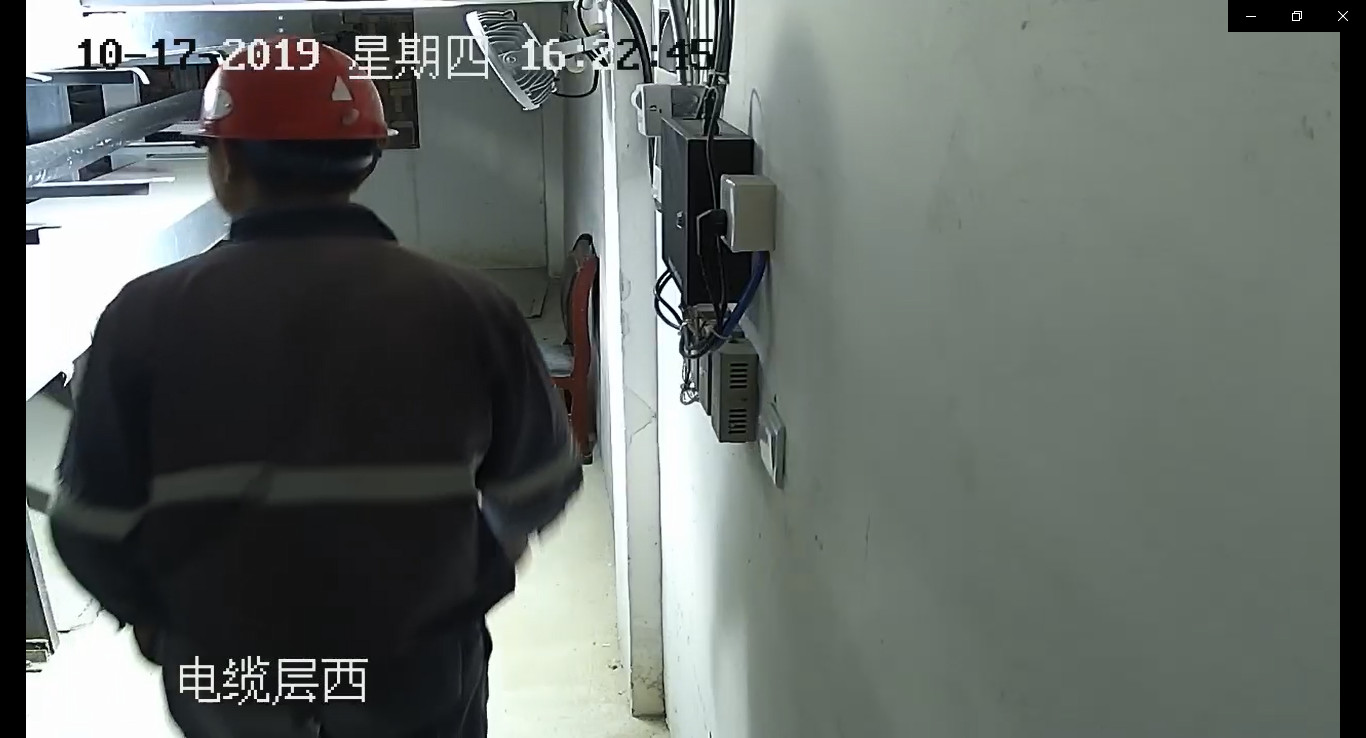helmet: (178, 34, 399, 141)
